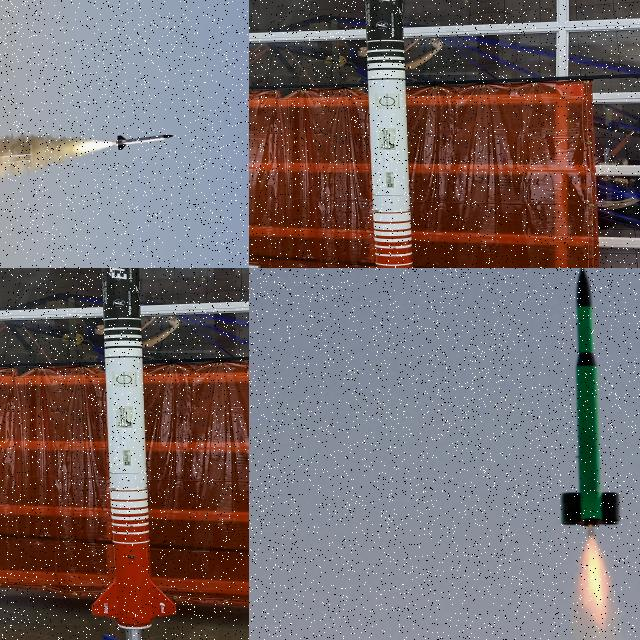Rocket: (92, 268, 177, 629), (560, 268, 621, 527), (365, 0, 413, 268), (116, 134, 174, 150)
